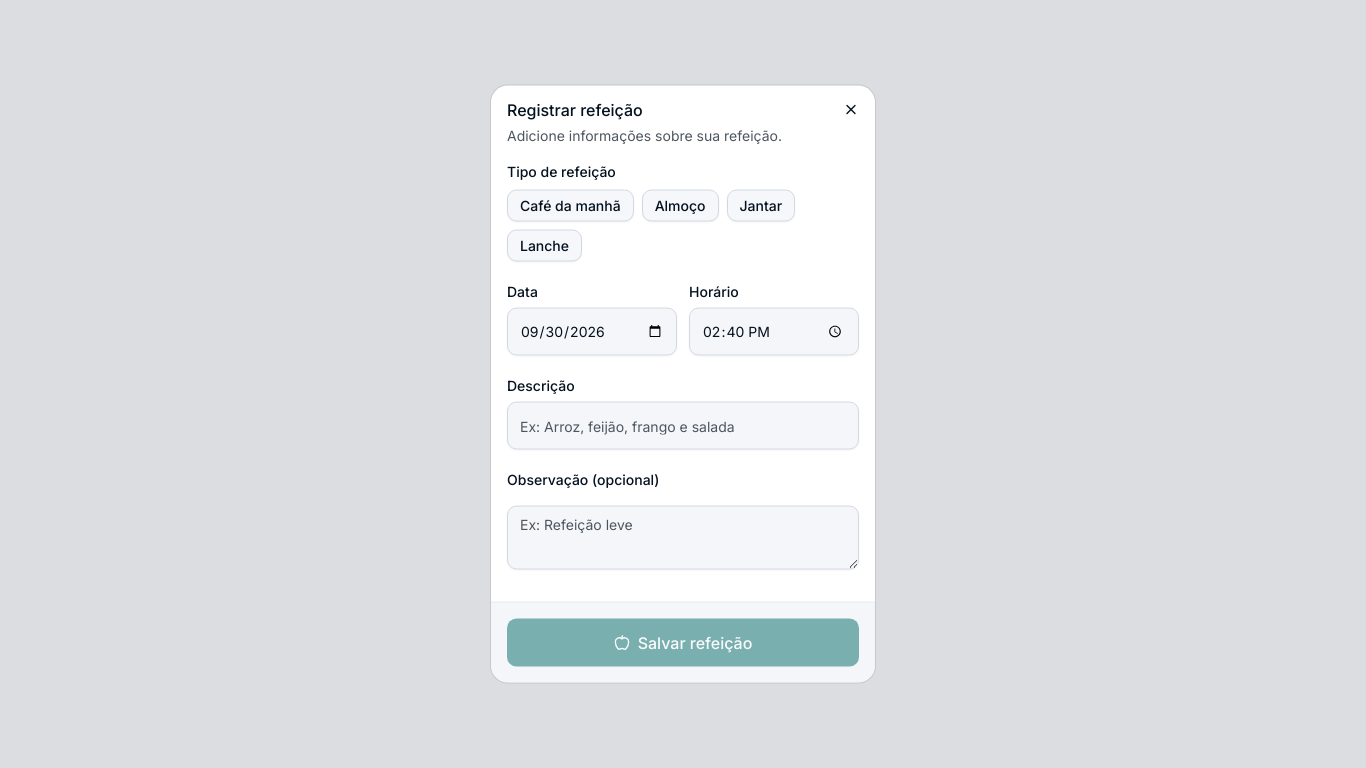
Test case: MealFormDialog › shows a validation error and does not submit on an invalid description
The image size is (1366, 768).
Click the button "Lanche": x=544, y=246 [507, 230, 582, 262]
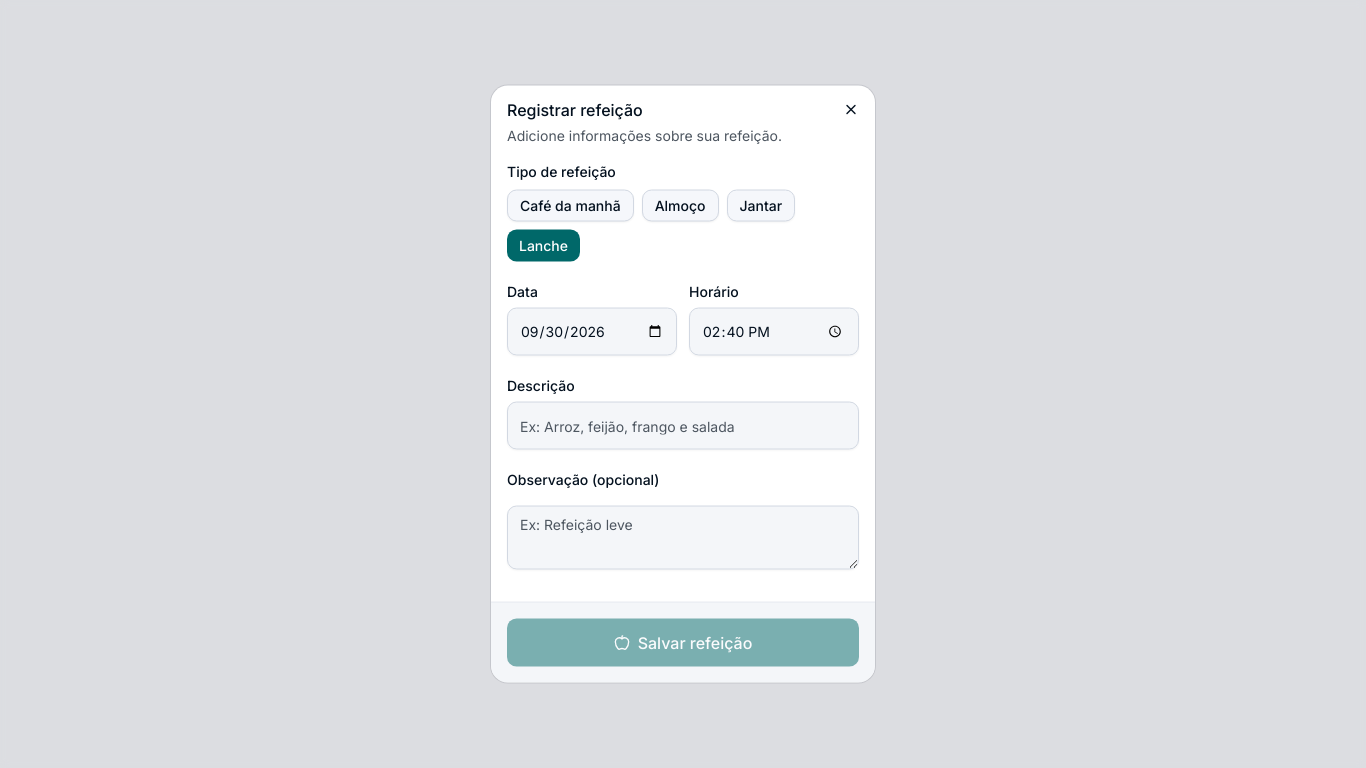
In the field labelled "Descrição": x=683, y=426 [507, 402, 859, 450], type "x"
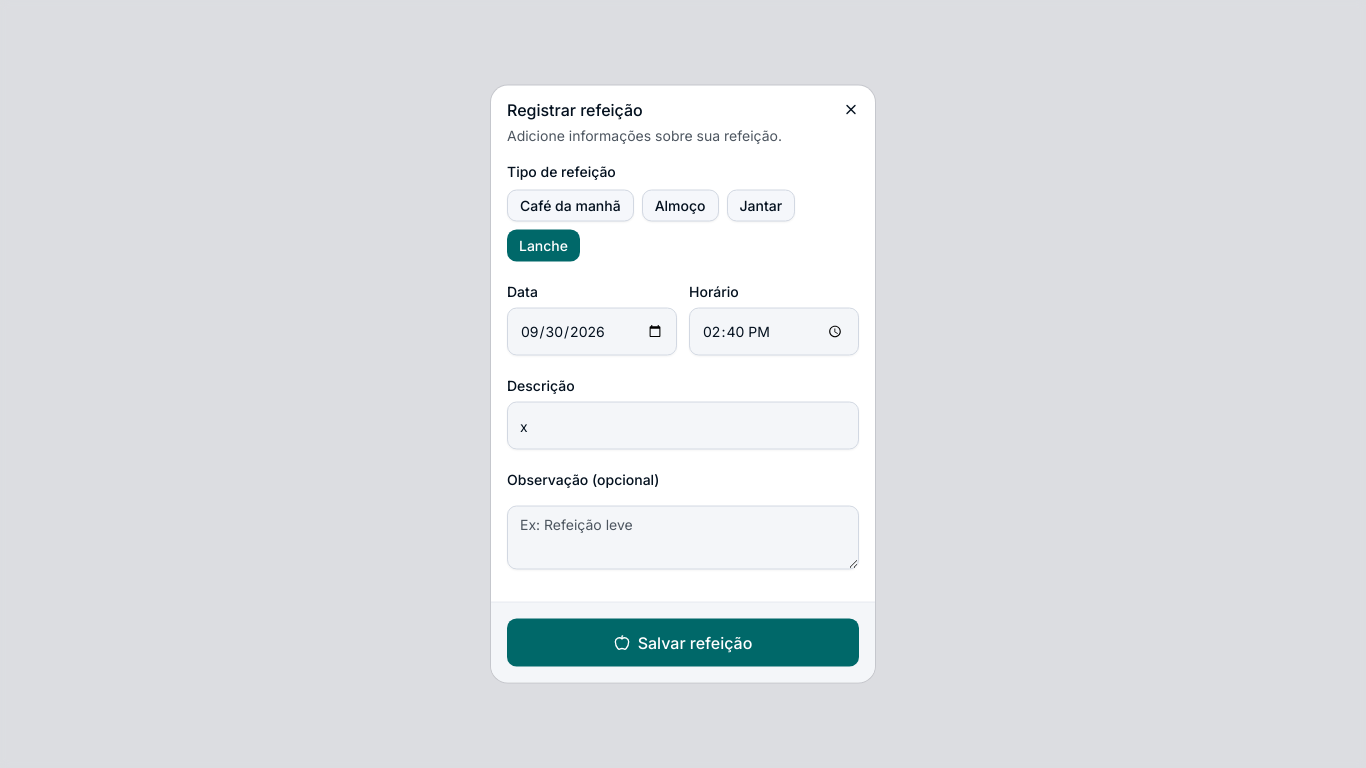
Click the button "Salvar refeição": x=683, y=642 [507, 618, 859, 666]
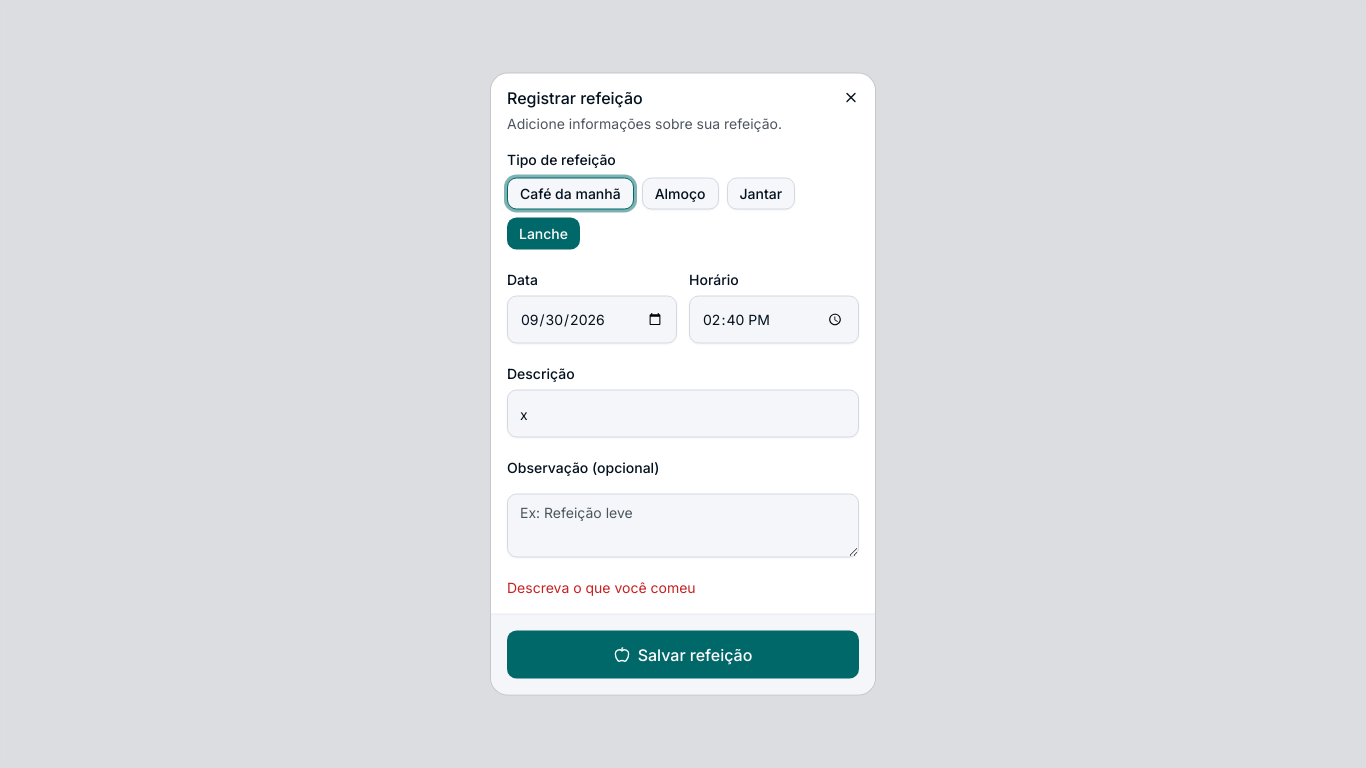
Check: the text "Descreva o que você comeu" is shown, box [507, 578, 696, 596]
